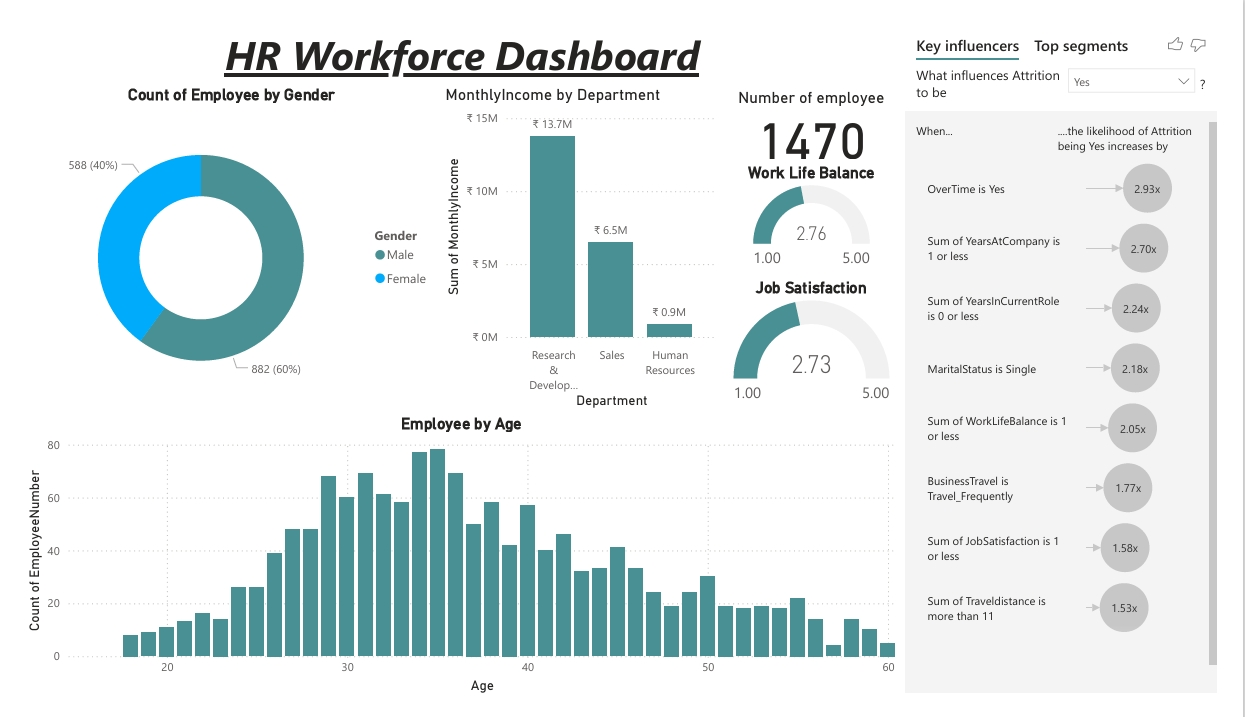

The dashboard page shown, as its layout file describes it:
{"tool":"powerbi","page":{"name":"Page 1","canvas":[1280,720],"ordinal":0},"visuals":[{"type":"card","title":"Number of employee","fields":{"Values":["CountNonNull(HRIS.EmployeeNumber)"]},"box":[747.1,70,191.4,80],"z":0},{"type":"donutChart","title":"Count of Employee by Gender","fields":{"Category":["HRIS.Gender"],"Y":["CountNonNull(HRIS.EmployeeNumber)"]},"box":[0,67.1,447.1,350],"z":1000},{"type":"columnChart","title":"Employee by Age","fields":{"Category":["HRIS.Age"],"Y":["CountNonNull(HRIS.EmployeeNumber)"]},"box":[0,417.6,938.2,302.9],"z":2000},{"type":"keyDriversVisual","fields":{"ExplainBy":["HRIS.OverTime","Sum(HRIS.YearsAtCompany)","HRIS.MaritalStatus","Sum(HRIS.Traveldistance)","Sum(Engagement Survey.JobSatisfaction)","Sum(Engagement Survey.WorkLifeBalance)","Sum(HRIS.PercentSalaryHike)","Sum(HRIS.YearsInCurrentRole)","HRIS.BusinessTravel"],"Target":["HRIS.Attrition"]},"box":[938.2,0,342.6,720.6],"z":3000},{"type":"textbox","box":[0,0,938.6,67.1],"z":4000},{"type":"columnChart","title":"MonthlyIncome by Department","fields":{"Category":["HRIS.Department"],"Y":["Sum(HRIS.MonthlyIncome)"]},"box":[447.1,67.1,300,350],"z":5000},{"type":"gauge","title":"Job Satisfaction","fields":{"Y":["Avg(Engagement Survey.JobSatisfaction)"]},"box":[747.1,272.9,191.4,144.3],"z":6000},{"type":"gauge","title":"Work Life Balance","fields":{"Y":["Avg(Engagement Survey.WorkLifeBalance)"]},"box":[747.1,150,191.4,122.9],"z":7000}]}

Visuals, with their boxes in screenshot pixels (x1, y1, x2, y2), scaled from the page's 1280x720 canvas onto the 1245x717 screenshot:
"Number of employee" card: [left=727, top=70, right=913, bottom=149]
"Count of Employee by Gender" donutChart: [left=0, top=67, right=435, bottom=415]
"Employee by Age" columnChart: [left=0, top=416, right=913, bottom=716]
keyDriversVisual - HRIS.OverTime x Sum(HRIS.YearsAtCompany): [left=913, top=0, right=1244, bottom=716]
textbox: [left=0, top=0, right=913, bottom=67]
"MonthlyIncome by Department" columnChart: [left=435, top=67, right=727, bottom=415]
"Job Satisfaction" gauge: [left=727, top=272, right=913, bottom=415]
"Work Life Balance" gauge: [left=727, top=149, right=913, bottom=272]
